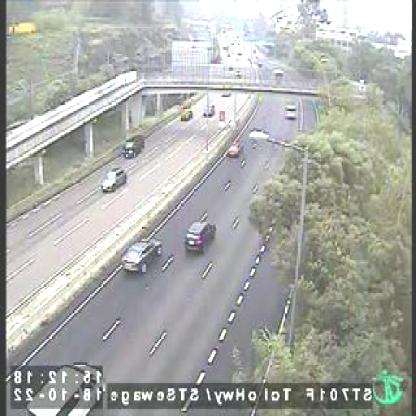Car: (10, 358, 110, 416), (120, 239, 162, 276), (182, 219, 216, 254), (101, 166, 127, 193), (121, 135, 147, 160), (227, 141, 242, 158), (284, 102, 298, 119), (202, 103, 216, 117), (180, 109, 193, 122)
